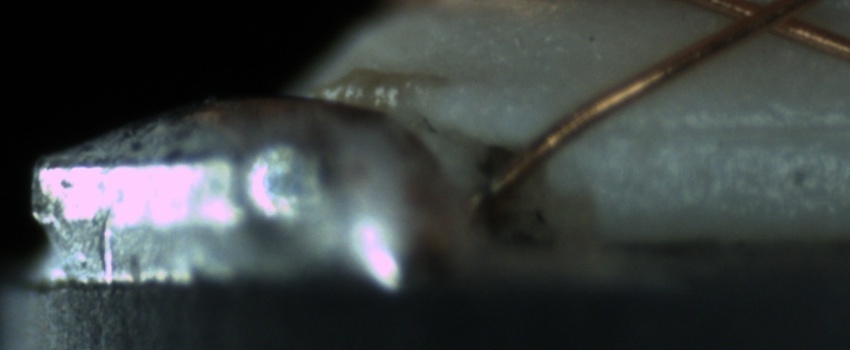CL: (712, 1, 823, 42)
DL: (608, 95, 845, 163)
